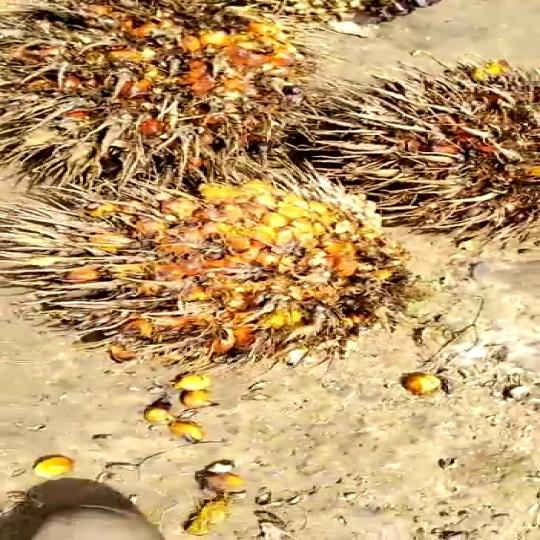terlalu masak: (0, 166, 429, 361), (0, 0, 298, 176)
